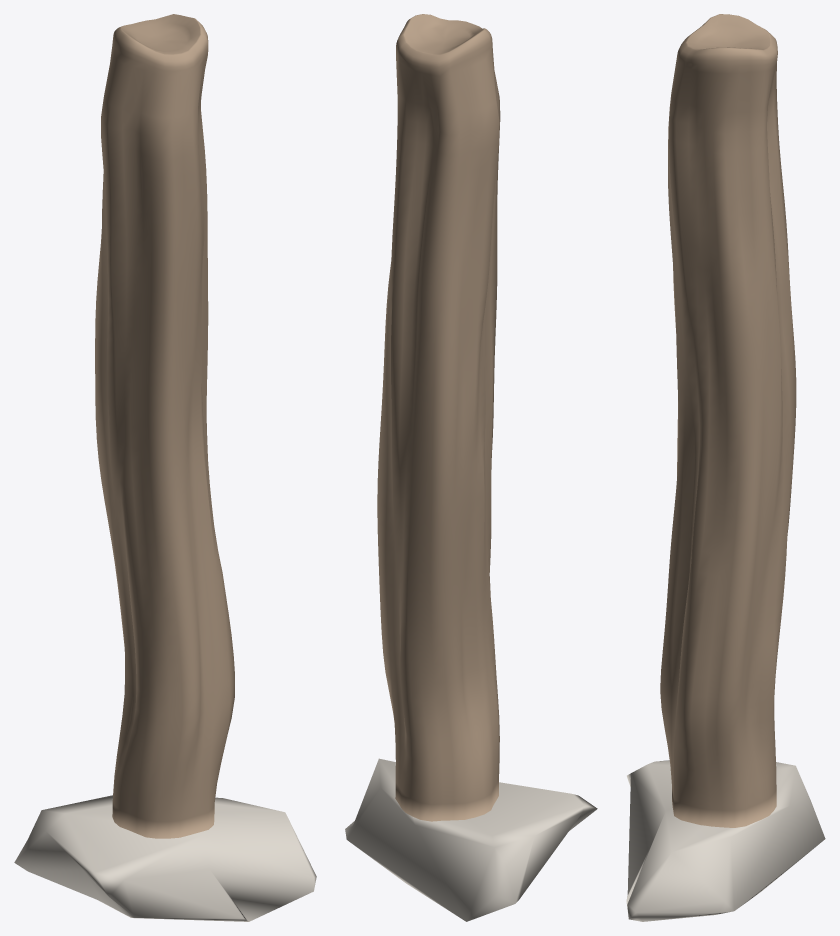
File: bagana-f3-3x11x3-v2.glb
3 renders of one model, left to right at view 1: azimuth 30°, elevation 25°; view 2: azimuth 150°, elevation 25°; view 3: azimuth 270°, elevation 25°, orthographic.
Parts seen in each view (by area): view 1: bagana_wood, bagana_stone; view 2: bagana_wood, bagana_stone; view 3: bagana_wood, bagana_stone.
Boxes of the visible parts, x1,y1,x2,y2 form: bagana_wood: (95,14,234,838); bagana_stone: (14,795,316,921); bagana_wood: (377,14,500,821); bagana_stone: (345,758,597,921); bagana_wood: (660,14,796,827); bagana_stone: (626,760,825,921).
Bounding box in the file's own units: 0.7206 × 2.74 × 0.579.
